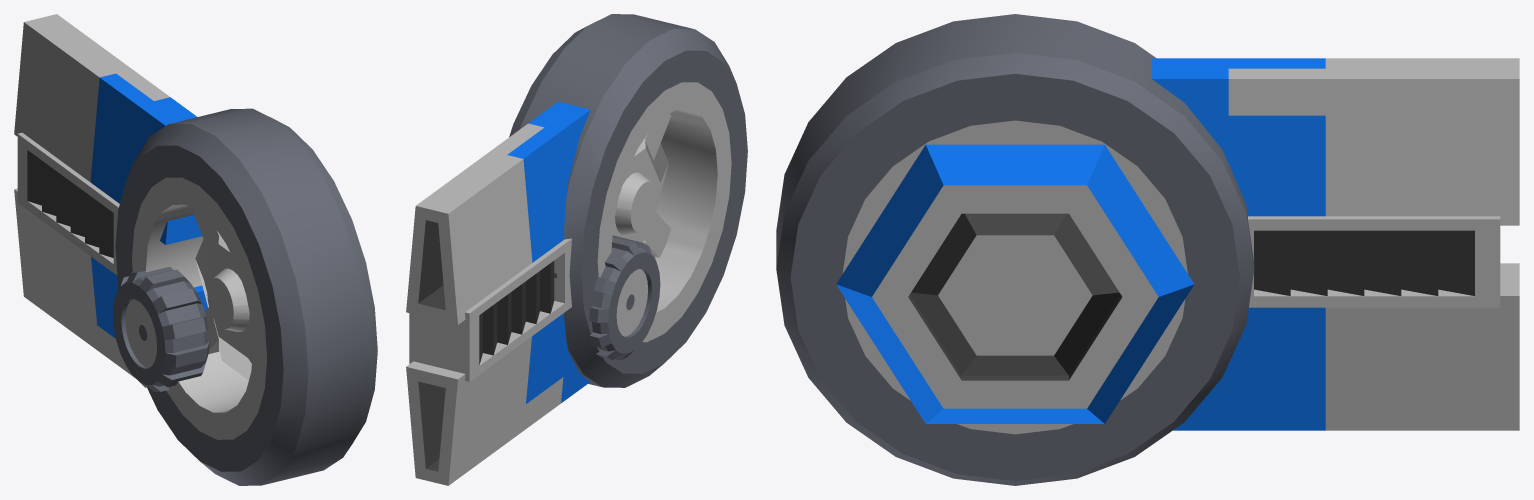
The model's file is surveyorCannon.obj.
The picture shows the model from 3 angles, left to right: view 1: azimuth 30°, elevation 25°; view 2: azimuth 150°, elevation 25°; view 3: azimuth 270°, elevation 25°; orthographic projection. The views are drawn at different scales.
Size of the model in its own units: 0.5154 by 1.23 by 1.92.
